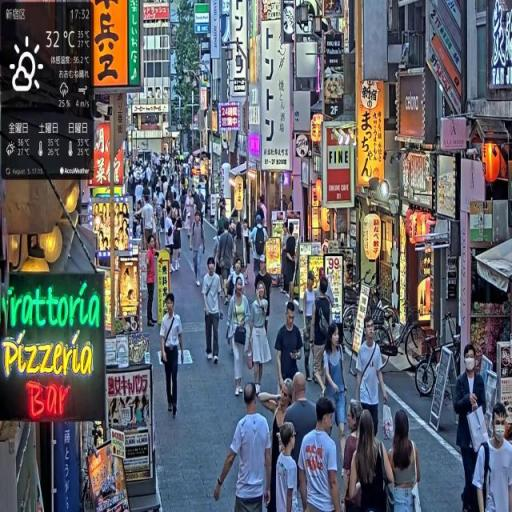person: (215, 384, 273, 512), (453, 342, 488, 512), (281, 375, 319, 512), (299, 396, 343, 512), (347, 410, 397, 512), (472, 402, 512, 512), (355, 319, 389, 440), (386, 408, 423, 512), (161, 291, 188, 421), (227, 276, 252, 398), (275, 301, 306, 395), (312, 277, 335, 394), (249, 282, 272, 395), (203, 255, 225, 366), (344, 399, 365, 512), (276, 423, 301, 512), (217, 223, 236, 305), (146, 235, 159, 330), (283, 223, 299, 300), (190, 211, 206, 286)
